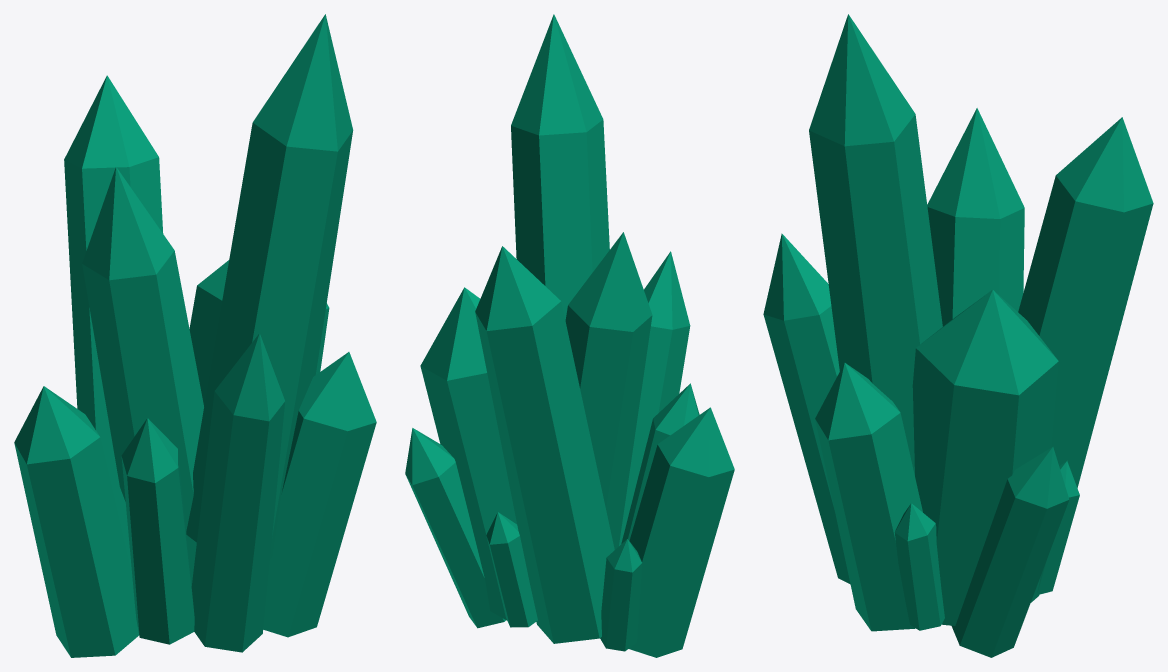
Rendered from Crystal.fbx.
3 renders of one model, left to right at view 1: azimuth 30°, elevation 25°; view 2: azimuth 150°, elevation 25°; view 3: azimuth 270°, elevation 25°, orthographic. The views are drawn at different scales.
Visible parts, largest first — view 1: Cylinder.007, Cylinder, Cylinder.004, Cylinder.003, Cylinder.005, Cylinder.002, Cylinder.006, Cylinder.001; view 2: Cylinder.002, Cylinder.007, Cylinder.004, Cylinder, Cylinder.001, Cylinder.011, Cylinder.003, Cylinder.008, Cylinder.009, Cylinder.006; view 3: Cylinder.007, Cylinder.001, Cylinder.002, Cylinder.005, Cylinder, Cylinder.011, Cylinder.003, Cylinder.010, Cylinder.009.
Part boxes in pixels (left/top/right/bottom): Cylinder.007: left=186, top=14, right=353, bottom=558; Cylinder: left=82, top=167, right=203, bottom=585; Cylinder.004: left=14, top=386, right=138, bottom=657; Cylinder.003: left=191, top=333, right=285, bottom=652; Cylinder.005: left=263, top=352, right=376, bottom=637; Cylinder.002: left=64, top=75, right=163, bottom=575; Cylinder.006: left=121, top=418, right=194, bottom=644; Cylinder.001: left=189, top=260, right=329, bottom=406; Cylinder.002: left=475, top=246, right=614, bottom=643; Cylinder.007: left=511, top=14, right=609, bottom=320; Cylinder.004: left=629, top=407, right=734, bottom=657; Cylinder: left=565, top=232, right=652, bottom=549; Cylinder.001: left=420, top=287, right=516, bottom=620; Cylinder.011: left=405, top=428, right=505, bottom=628; Cylinder.003: left=619, top=251, right=690, bottom=545; Cylinder.008: left=600, top=539, right=642, bottom=651; Cylinder.009: left=486, top=512, right=537, bottom=627; Cylinder.006: left=621, top=383, right=699, bottom=543; Cylinder.007: left=809, top=14, right=942, bottom=475; Cylinder.001: left=912, top=289, right=1058, bottom=625; Cylinder.002: left=1018, top=117, right=1153, bottom=487; Cylinder.005: left=815, top=363, right=922, bottom=631; Cylinder: left=927, top=108, right=1024, bottom=326; Cylinder.011: left=951, top=447, right=1069, bottom=657; Cylinder.003: left=763, top=233, right=850, bottom=584; Cylinder.010: left=894, top=503, right=944, bottom=630; Cylinder.009: left=1037, top=461, right=1079, bottom=595.
Size of the model in its own units: 56.9 by 108 by 60.49.
